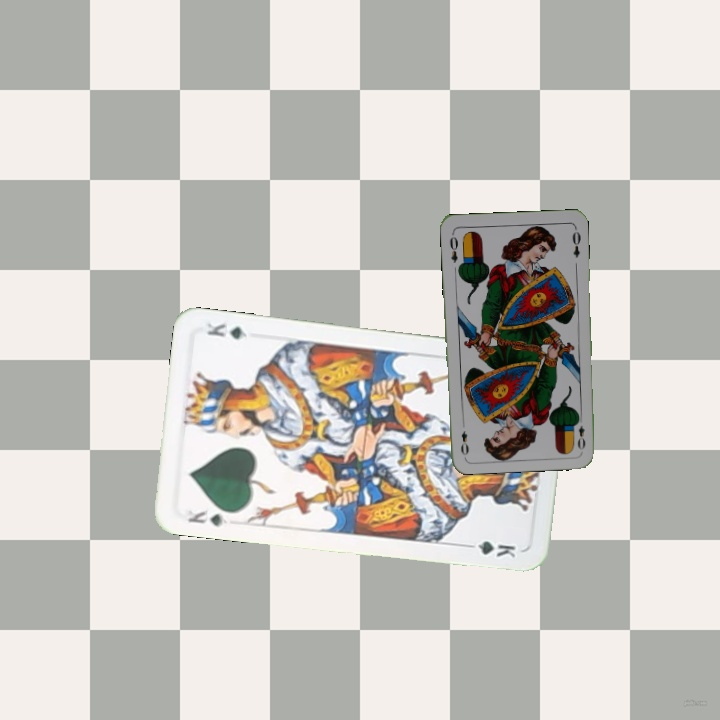EO: (572, 412, 587, 452), (445, 229, 461, 265)
GK: (177, 505, 230, 529)
